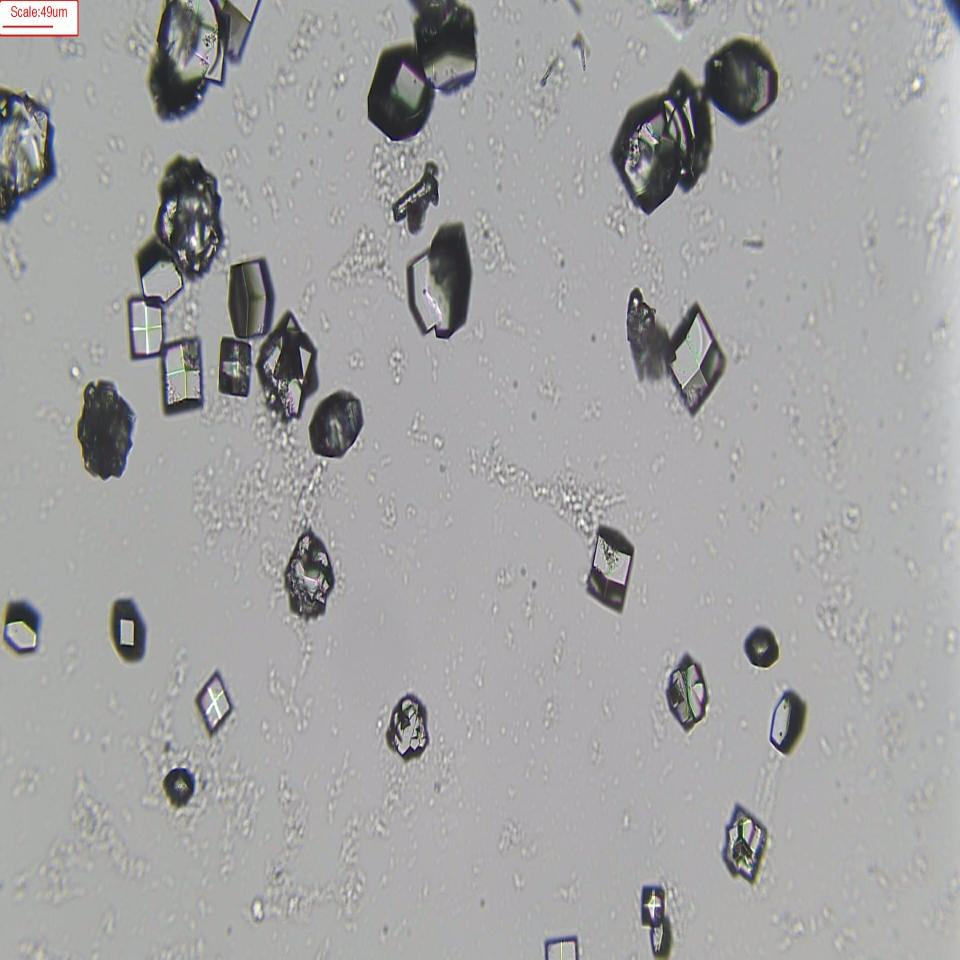crystal: (70, 371, 136, 492), (154, 158, 219, 277), (248, 309, 318, 418), (402, 240, 471, 339), (668, 302, 727, 417), (367, 44, 434, 144), (708, 36, 782, 123), (307, 384, 379, 469), (282, 534, 336, 618), (382, 686, 434, 766), (226, 252, 273, 339), (586, 526, 633, 610), (722, 804, 768, 884), (664, 651, 706, 730), (160, 334, 202, 406), (158, 756, 202, 820), (739, 620, 783, 677), (768, 687, 802, 755), (196, 668, 232, 732), (6, 603, 46, 660), (217, 338, 253, 399), (127, 295, 164, 352), (113, 601, 145, 662), (640, 881, 666, 926)
not_crystal: (612, 72, 712, 211)
